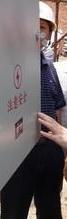hard-hat: (30, 2, 55, 20)
